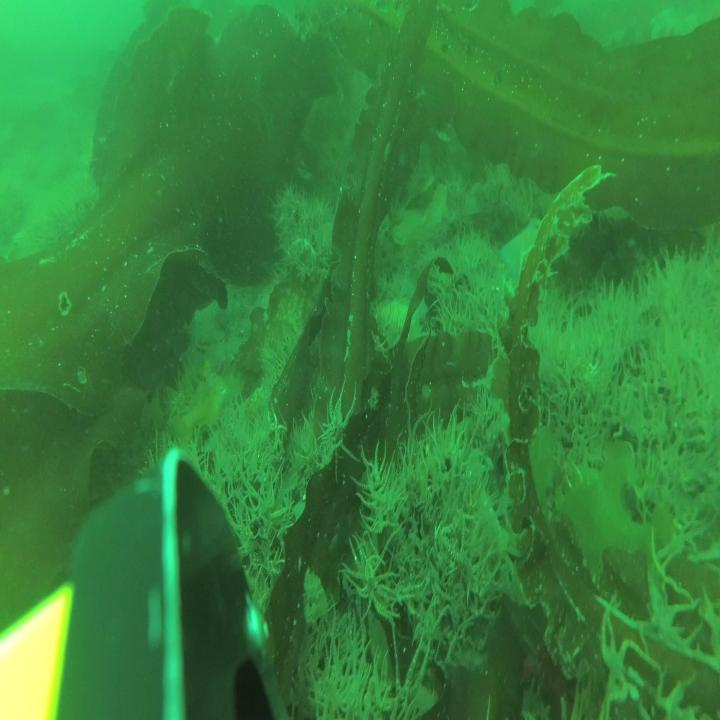starfish: (499, 213, 552, 287)
